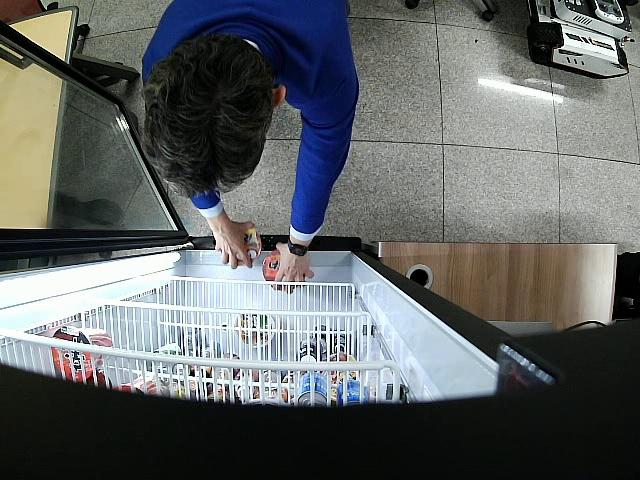00_hand: (273, 243, 314, 293), (215, 221, 256, 269)
05_nuguri_L: (262, 250, 287, 290), (237, 228, 261, 266)
